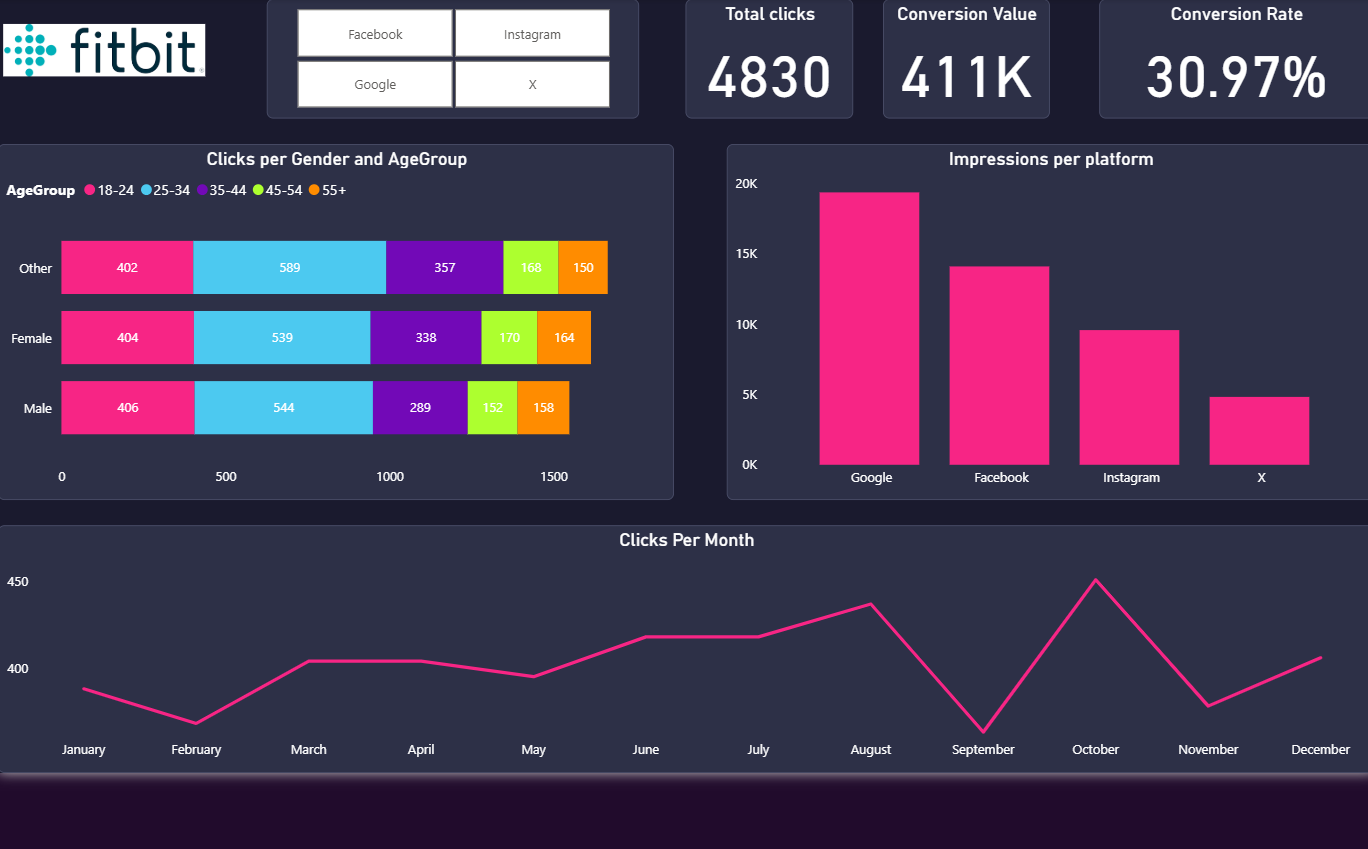

Layout of this report page (visuals, bound fields, positions):
{"tool":"powerbi","page":{"name":"Impression ","canvas":[1280,720],"ordinal":1},"visuals":[{"type":"card","title":"Conversion Value","fields":{"Values":["Sum(FitBitDataMarketing.ConversionValue)"]},"box":[823.8,0,155,111.2],"z":0},{"type":"card","title":"Total clicks","fields":{"Values":["Sum(FitBitDataMarketing.Clicks)"]},"box":[640,0,156.2,111.2],"z":1000},{"type":"columnChart","title":"Impressions per platform","fields":{"Category":["FitBitDataMarketing.AdPlatform"],"Y":["Sum(FitBitDataMarketing.Impressions)"]},"box":[677.9,134.9,602.3,331.4],"z":2000},{"type":"barChart","title":"Clicks per Gender and AgeGroup","fields":{"Category":["FitBitDataMarketing.Gender"],"Y":["Sum(FitBitDataMarketing.Clicks)"],"Series":["FitBitDataMarketing.AgeGroup"]},"box":[0,134.9,629.1,331.4],"z":3000},{"type":"slicer","fields":{"Values":["FitBitDataMarketing.AdPlatform"]},"box":[250,0,346.2,111.2],"z":4000},{"type":"image","box":[0,0,197.7,95.3],"z":5000},{"type":"card","title":"Conversion Rate","fields":{"Values":["FitBitDataMarketing.Conversion Rate"]},"box":[1025,0,255,111.2],"z":6000},{"type":"lineChart","title":"Clicks Per Month","fields":{"Y":["Sum(FitBitDataMarketing.Clicks)"],"Category":["FitBitDataMarketing.DateTime.Variation.Date Hierarchy.Month"]},"box":[0,489.5,1280.2,230.2],"z":7000}]}

Visuals, with their boxes on the page's 1280x720 design canvas (x1, y1, x2, y2). These are canvas units, not pixel positions in the 1368x849 screenshot, which may show the page scaled, cropped or inside an application window:
"Conversion Value" card: [left=824, top=0, right=979, bottom=111]
"Total clicks" card: [left=640, top=0, right=796, bottom=111]
"Impressions per platform" columnChart: [left=678, top=135, right=1280, bottom=466]
"Clicks per Gender and AgeGroup" barChart: [left=0, top=135, right=629, bottom=466]
slicer - FitBitDataMarketing.AdPlatform: [left=250, top=0, right=596, bottom=111]
image: [left=0, top=0, right=198, bottom=95]
"Conversion Rate" card: [left=1025, top=0, right=1280, bottom=111]
"Clicks Per Month" lineChart: [left=0, top=490, right=1280, bottom=720]
